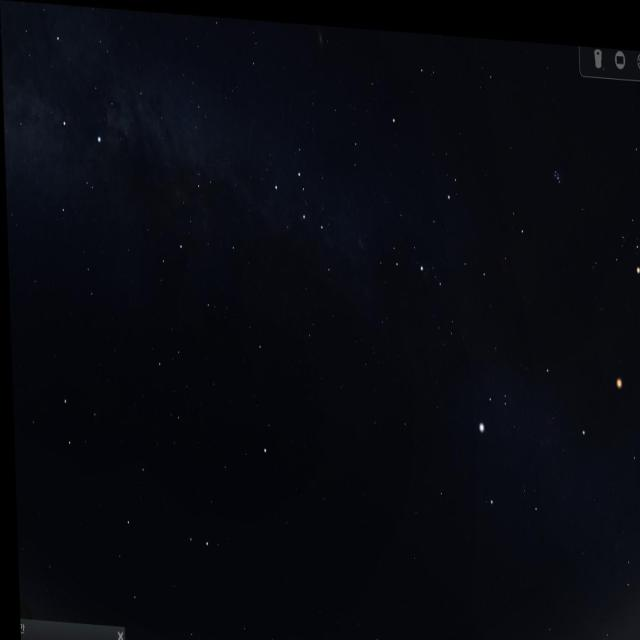cassiopeia: (265, 139, 340, 286)
pleiades: (549, 146, 571, 185)
